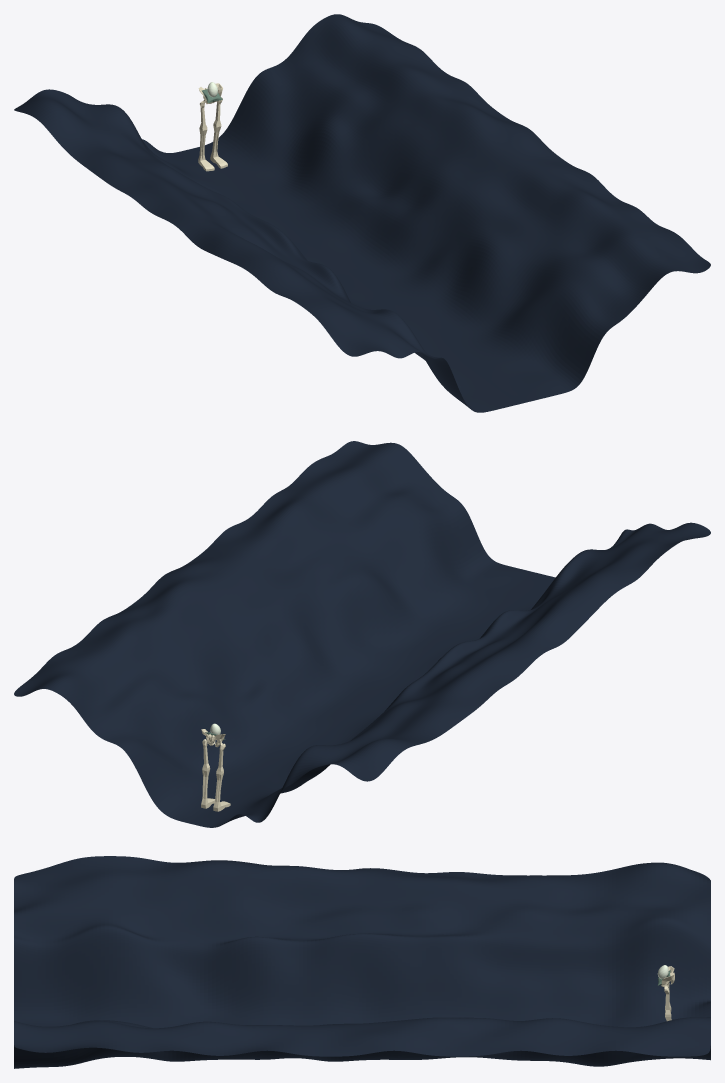
The model's file is skeleton scene elliot lee.fbx.
3 views of the same model, one above another, from view 1: azimuth 30°, elevation 25°; view 2: azimuth 150°, elevation 25°; view 3: azimuth 270°, elevation 25° (orthographic).
Parts seen in each view (by area): view 1: plane; view 2: plane; view 3: plane.
Boxes of the visible parts, bbox=[...] form: plane: bbox=[14, 14, 710, 412]; plane: bbox=[14, 441, 710, 827]; plane: bbox=[14, 856, 710, 1068].
Size of the model in its own units: 7107 by 1950 by 11553.
